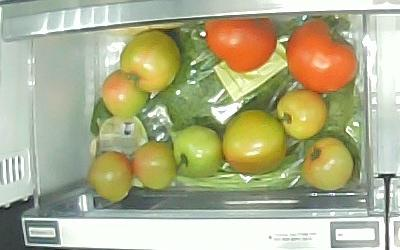tomato: (287, 20, 357, 93), (222, 109, 287, 174), (205, 18, 277, 72), (121, 30, 182, 92), (303, 137, 353, 191), (276, 90, 327, 139), (174, 126, 222, 178), (88, 152, 133, 203), (102, 70, 149, 116), (132, 142, 177, 190)
